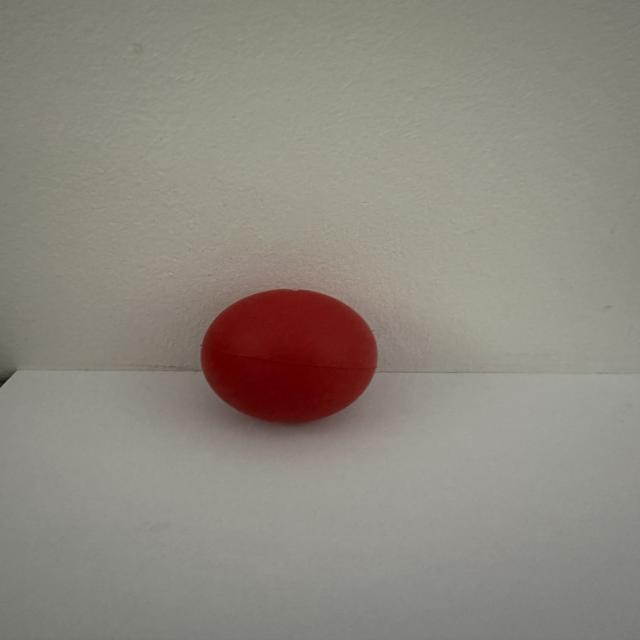red_ball: (197, 274, 390, 436)
